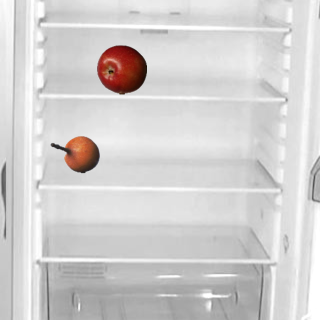Apple Braeburn: (96, 44, 146, 94)
Granadilla: (49, 129, 99, 179)
